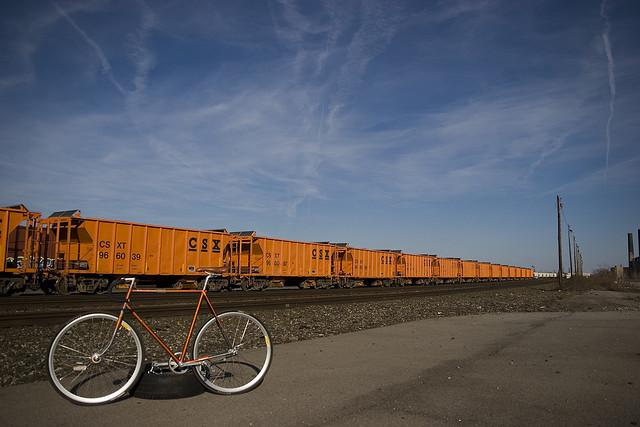Train: (3, 205, 542, 309)
